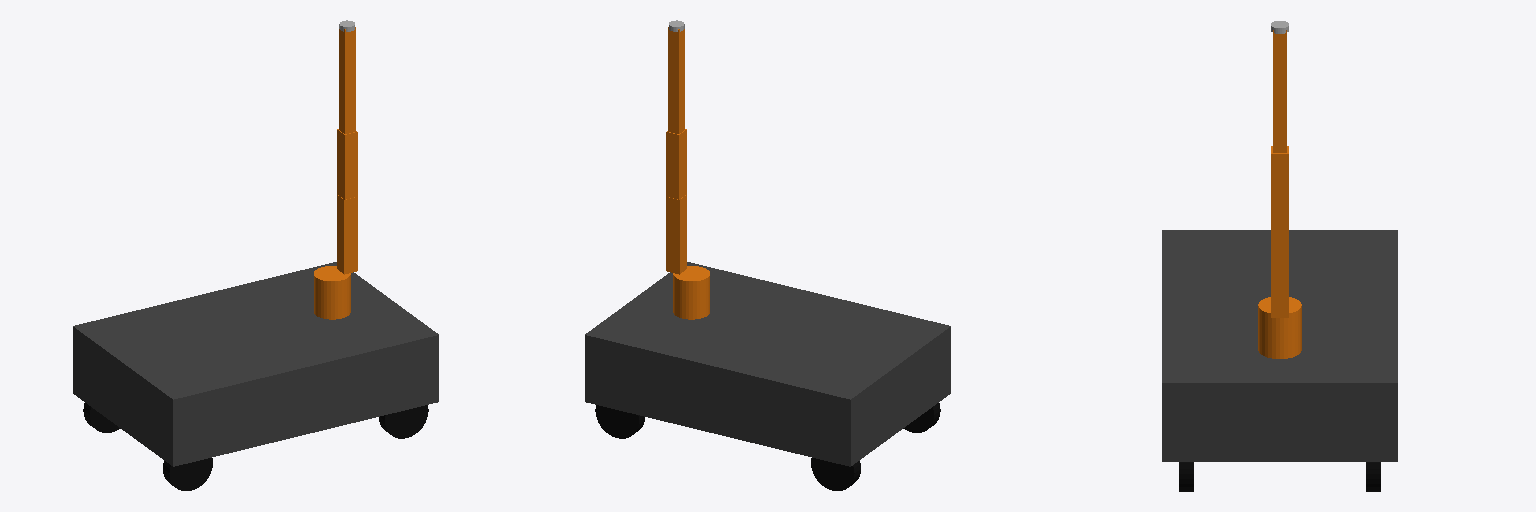
URDF robot description (kuka_youbot):
<?xml version="1.0"?>
<robot name="kuka_youbot">

  <!-- ====================================================== -->
  <!-- Mobile Base                                             -->
  <!-- ====================================================== -->
  <link name="base_footprint"/>

  <link name="base_link">
    <inertial>
      <mass value="22.0"/>
      <origin xyz="0 0 0" rpy="0 0 0"/>
      <inertia ixx="0.42" ixy="0" ixz="0" iyy="0.70" iyz="0" izz="0.98"/>
    </inertial>
    <visual>
      <geometry><box size="0.58 0.38 0.14"/></geometry>
      <material name="dark_grey">
        <color rgba="0.3 0.3 0.3 1.0"/>
      </material>
    </visual>
    <collision>
      <geometry><box size="0.58 0.38 0.14"/></geometry>
    </collision>
  </link>

  <joint name="base_footprint_to_base" type="fixed">
    <parent link="base_footprint"/>
    <child link="base_link"/>
    <origin xyz="0 0 0.0963" rpy="0 0 0"/>
  </joint>

  <!-- ====================================================== -->
  <!-- Mecanum Wheels                                          -->
  <!-- ====================================================== -->

  <!-- Wheel 1 (front-left) -->
  <link name="wheel_1">
    <inertial>
      <mass value="1.4"/>
      <origin xyz="0 0 0" rpy="0 0 0"/>
      <inertia ixx="0.0012" ixy="0" ixz="0" iyy="0.0012" iyz="0" izz="0.0019"/>
    </inertial>
    <visual>
      <geometry><cylinder radius="0.0475" length="0.025"/></geometry>
      <material name="black"><color rgba="0.1 0.1 0.1 1.0"/></material>
    </visual>
  </link>
  <joint name="wheel_1_joint" type="continuous">
    <parent link="base_link"/>
    <child link="wheel_1"/>
    <origin xyz="0.235 0.15 -0.0963" rpy="1.5708 0 0"/>
    <axis xyz="0 0 1"/>
    <dynamics damping="0.01" friction="0.0"/>
  </joint>
  <gazebo reference="wheel_1">
    <mu1>0.5</mu1>
    <mu2>0.2</mu2>
    <mecanum_roller_angle>-0.7854</mecanum_roller_angle>
  </gazebo>

  <!-- Wheel 2 (front-right) -->
  <link name="wheel_2">
    <inertial>
      <mass value="1.4"/>
      <origin xyz="0 0 0" rpy="0 0 0"/>
      <inertia ixx="0.0012" ixy="0" ixz="0" iyy="0.0012" iyz="0" izz="0.0019"/>
    </inertial>
    <visual>
      <geometry><cylinder radius="0.0475" length="0.025"/></geometry>
      <material name="black"><color rgba="0.1 0.1 0.1 1.0"/></material>
    </visual>
  </link>
  <joint name="wheel_2_joint" type="continuous">
    <parent link="base_link"/>
    <child link="wheel_2"/>
    <origin xyz="0.235 -0.15 -0.0963" rpy="1.5708 0 0"/>
    <axis xyz="0 0 1"/>
    <dynamics damping="0.01" friction="0.0"/>
  </joint>
  <gazebo reference="wheel_2">
    <mu1>0.5</mu1>
    <mu2>0.2</mu2>
    <mecanum_roller_angle>0.7854</mecanum_roller_angle>
  </gazebo>

  <!-- Wheel 3 (rear-right) -->
  <link name="wheel_3">
    <inertial>
      <mass value="1.4"/>
      <origin xyz="0 0 0" rpy="0 0 0"/>
      <inertia ixx="0.0012" ixy="0" ixz="0" iyy="0.0012" iyz="0" izz="0.0019"/>
    </inertial>
    <visual>
      <geometry><cylinder radius="0.0475" length="0.025"/></geometry>
      <material name="black"><color rgba="0.1 0.1 0.1 1.0"/></material>
    </visual>
  </link>
  <joint name="wheel_3_joint" type="continuous">
    <parent link="base_link"/>
    <child link="wheel_3"/>
    <origin xyz="-0.235 -0.15 -0.0963" rpy="1.5708 0 0"/>
    <axis xyz="0 0 1"/>
    <dynamics damping="0.01" friction="0.0"/>
  </joint>
  <gazebo reference="wheel_3">
    <mu1>0.5</mu1>
    <mu2>0.2</mu2>
    <mecanum_roller_angle>-0.7854</mecanum_roller_angle>
  </gazebo>

  <!-- Wheel 4 (rear-left) -->
  <link name="wheel_4">
    <inertial>
      <mass value="1.4"/>
      <origin xyz="0 0 0" rpy="0 0 0"/>
      <inertia ixx="0.0012" ixy="0" ixz="0" iyy="0.0012" iyz="0" izz="0.0019"/>
    </inertial>
    <visual>
      <geometry><cylinder radius="0.0475" length="0.025"/></geometry>
      <material name="black"><color rgba="0.1 0.1 0.1 1.0"/></material>
    </visual>
  </link>
  <joint name="wheel_4_joint" type="continuous">
    <parent link="base_link"/>
    <child link="wheel_4"/>
    <origin xyz="-0.235 0.15 -0.0963" rpy="1.5708 0 0"/>
    <axis xyz="0 0 1"/>
    <dynamics damping="0.01" friction="0.0"/>
  </joint>
  <gazebo reference="wheel_4">
    <mu1>0.5</mu1>
    <mu2>0.2</mu2>
    <mecanum_roller_angle>0.7854</mecanum_roller_angle>
  </gazebo>

  <!-- ====================================================== -->
  <!-- 5-DOF Robot Arm                                         -->
  <!-- ====================================================== -->

  <link name="arm_base_link">
    <inertial>
      <mass value="0.96"/>
      <origin xyz="0 0 0" rpy="0 0 0"/>
      <inertia ixx="0.002" ixy="0" ixz="0" iyy="0.002" iyz="0" izz="0.001"/>
    </inertial>
    <visual>
      <geometry><cylinder radius="0.04" length="0.03"/></geometry>
      <material name="orange"><color rgba="0.9 0.5 0.1 1.0"/></material>
    </visual>
  </link>

  <joint name="base_to_arm_base" type="fixed">
    <parent link="base_link"/>
    <child link="arm_base_link"/>
    <origin xyz="0.1662 0 0.0026" rpy="0 0 0"/>
  </joint>

  <!-- Joint 1 (base rotation) -->
  <link name="arm_link_1">
    <inertial>
      <mass value="1.39"/>
      <origin xyz="0 0 0.073" rpy="0 0 0"/>
      <inertia ixx="0.003" ixy="0" ixz="0" iyy="0.003" iyz="0" izz="0.001"/>
    </inertial>
    <visual>
      <geometry><cylinder radius="0.035" length="0.147"/></geometry>
      <origin xyz="0 0 0.0735" rpy="0 0 0"/>
      <material name="orange"><color rgba="0.9 0.5 0.1 1.0"/></material>
    </visual>
  </link>
  <joint name="arm_joint_1" type="revolute">
    <parent link="arm_base_link"/>
    <child link="arm_link_1"/>
    <origin xyz="0 0 0" rpy="0 0 0"/>
    <axis xyz="0 0 1"/>
    <limit lower="-5.0" upper="5.0" effort="9.5" velocity="1.57"/>
    <dynamics damping="0.5" friction="0.1"/>
  </joint>

  <!-- Joint 2 (shoulder) -->
  <link name="arm_link_2">
    <inertial>
      <mass value="1.32"/>
      <origin xyz="0 0 0.078" rpy="0 0 0"/>
      <inertia ixx="0.004" ixy="0" ixz="0" iyy="0.004" iyz="0" izz="0.001"/>
    </inertial>
    <visual>
      <geometry><box size="0.03 0.03 0.155"/></geometry>
      <origin xyz="0 0 0.0775" rpy="0 0 0"/>
      <material name="orange"><color rgba="0.9 0.5 0.1 1.0"/></material>
    </visual>
  </link>
  <joint name="arm_joint_2" type="revolute">
    <parent link="arm_link_1"/>
    <child link="arm_link_2"/>
    <origin xyz="0.033 0 0.147" rpy="0 0 0"/>
    <axis xyz="0 -1 0"/>
    <limit lower="-5.0" upper="5.0" effort="9.5" velocity="1.57"/>
    <dynamics damping="0.5" friction="0.1"/>
  </joint>

  <!-- Joint 3 (elbow) -->
  <link name="arm_link_3">
    <inertial>
      <mass value="1.18"/>
      <origin xyz="0 0 0.068" rpy="0 0 0"/>
      <inertia ixx="0.003" ixy="0" ixz="0" iyy="0.003" iyz="0" izz="0.001"/>
    </inertial>
    <visual>
      <geometry><box size="0.028 0.028 0.135"/></geometry>
      <origin xyz="0 0 0.0675" rpy="0 0 0"/>
      <material name="orange"><color rgba="0.9 0.5 0.1 1.0"/></material>
    </visual>
  </link>
  <joint name="arm_joint_3" type="revolute">
    <parent link="arm_link_2"/>
    <child link="arm_link_3"/>
    <origin xyz="0 0 0.155" rpy="0 0 0"/>
    <axis xyz="0 -1 0"/>
    <limit lower="-5.0" upper="5.0" effort="6.0" velocity="1.57"/>
    <dynamics damping="0.5" friction="0.1"/>
  </joint>

  <!-- Joint 4 (wrist pitch) -->
  <link name="arm_link_4">
    <inertial>
      <mass value="0.55"/>
      <origin xyz="0 0 0.109" rpy="0 0 0"/>
      <inertia ixx="0.001" ixy="0" ixz="0" iyy="0.001" iyz="0" izz="0.0004"/>
    </inertial>
    <visual>
      <geometry><box size="0.024 0.024 0.2176"/></geometry>
      <origin xyz="0 0 0.1088" rpy="0 0 0"/>
      <material name="orange"><color rgba="0.9 0.5 0.1 1.0"/></material>
    </visual>
  </link>
  <joint name="arm_joint_4" type="revolute">
    <parent link="arm_link_3"/>
    <child link="arm_link_4"/>
    <origin xyz="0 0 0.135" rpy="0 0 0"/>
    <axis xyz="0 -1 0"/>
    <limit lower="-5.0" upper="5.0" effort="2.0" velocity="1.57"/>
    <dynamics damping="0.5" friction="0.1"/>
  </joint>

  <!-- Joint 5 (wrist rotation) -->
  <link name="arm_link_5">
    <inertial>
      <mass value="0.25"/>
      <origin xyz="0 0 0" rpy="0 0 0"/>
      <inertia ixx="0.0002" ixy="0" ixz="0" iyy="0.0002" iyz="0" izz="0.0001"/>
    </inertial>
    <visual>
      <geometry><cylinder radius="0.015" length="0.01"/></geometry>
      <material name="silver"><color rgba="0.7 0.7 0.7 1.0"/></material>
    </visual>
  </link>
  <joint name="arm_joint_5" type="revolute">
    <parent link="arm_link_4"/>
    <child link="arm_link_5"/>
    <origin xyz="0 0 0.2176" rpy="0 0 0"/>
    <axis xyz="0 0 1"/>
    <limit lower="-5.0" upper="5.0" effort="1.0" velocity="1.57"/>
    <dynamics damping="0.2" friction="0.05"/>
  </joint>

  <!-- End-effector frame -->
  <link name="end_effector">
    <visual>
      <geometry><sphere radius="0.005"/></geometry>
      <material name="red"><color rgba="1.0 0.0 0.0 1.0"/></material>
    </visual>
  </link>
  <joint name="ee_fixed_joint" type="fixed">
    <parent link="arm_link_5"/>
    <child link="end_effector"/>
    <origin xyz="0 0 0" rpy="0 0 0"/>
  </joint>

</robot>

--- Facts derived from the render (not from the file) ---
3 views of the same robot in one strip: view 1: azimuth 30°, elevation 25°; view 2: azimuth 150°, elevation 25°; view 3: azimuth 270°, elevation 25° (orthographic).
Model kuka_youbot with 13 links and 12 joints (5 revolute, 4 continuous, 3 fixed), rooted at base_footprint, posed every joint at zero.
Visible links, largest first — view 1: base_link, arm_link_1, arm_link_4, arm_link_2, arm_link_3, wheel_3, wheel_2, wheel_4; view 2: base_link, arm_link_1, arm_link_4, arm_link_2, arm_link_3, wheel_4, wheel_1, wheel_3; view 3: base_link, arm_link_1, arm_link_4, arm_link_2, arm_link_3.
Link boxes in pixels (x1,y1,x2,y2): base_link: (73,262,438,466); arm_link_1: (314,266,350,319); arm_link_4: (339,27,355,133); arm_link_2: (337,195,357,274); arm_link_3: (337,129,357,199); wheel_3: (163,458,212,490); wheel_2: (379,405,428,438); wheel_4: (83,403,120,432); base_link: (585,262,950,466); arm_link_1: (673,266,709,319); arm_link_4: (668,27,684,133); arm_link_2: (666,195,686,274); arm_link_3: (666,129,686,199); wheel_4: (811,458,860,490); wheel_1: (595,405,644,438); wheel_3: (903,403,940,432); base_link: (1162,230,1397,461); arm_link_1: (1258,297,1301,358); arm_link_4: (1273,30,1286,152); arm_link_2: (1271,230,1288,317); arm_link_3: (1271,146,1288,229).
Size in the robot's own frame: 0.58 by 0.38 by 0.806 metres.
Geometry: primitives only (box / cylinder / sphere), no mesh files.
